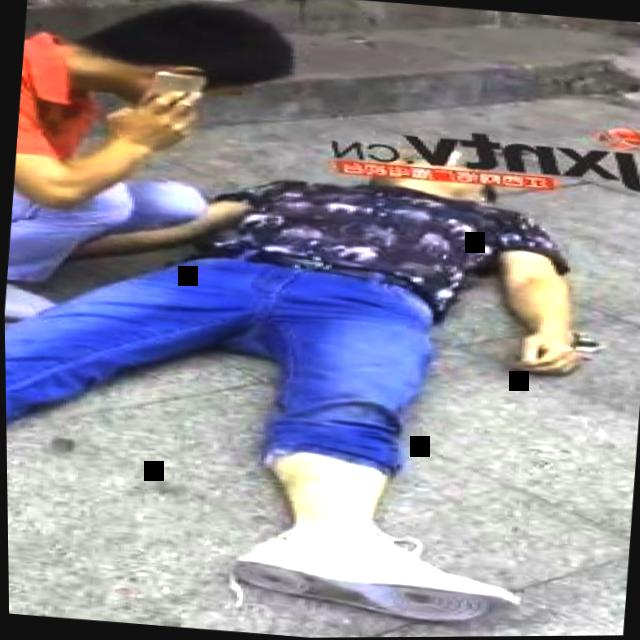Fall-Detected: (1, 98, 628, 640)
